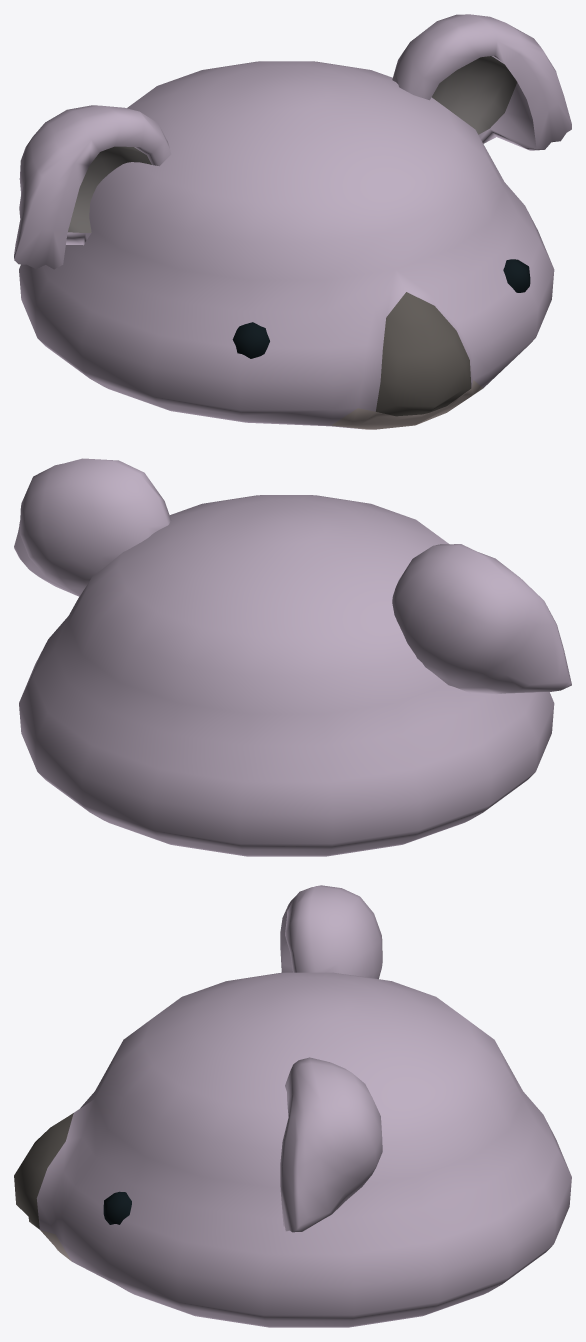
Rendered from Hat_48_01.fbx.
3 renders of one model, top to bottom at view 1: azimuth 30°, elevation 25°; view 2: azimuth 150°, elevation 25°; view 3: azimuth 270°, elevation 25°, orthographic.
Visible parts, largest first — view 1: Hat_48_01; view 2: Hat_48_01; view 3: Hat_48_01.
Boxes of the visible parts, x1,y1,x2,y2 form: Hat_48_01: (14,14,571,429); Hat_48_01: (14,458,571,856); Hat_48_01: (14,885,571,1327).
Size of the model in its own units: 51.18 by 23.22 by 45.15.
